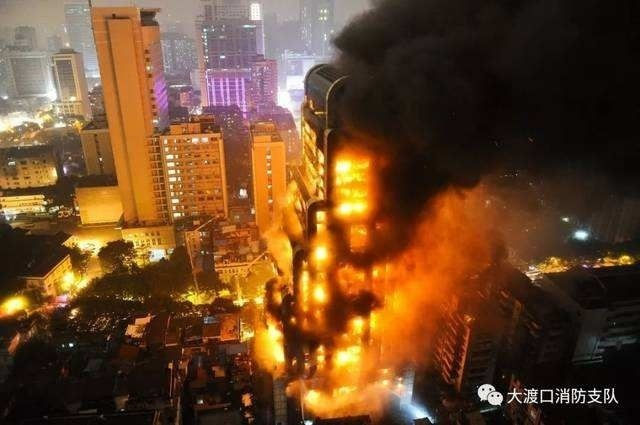fire: (245, 132, 415, 398)
